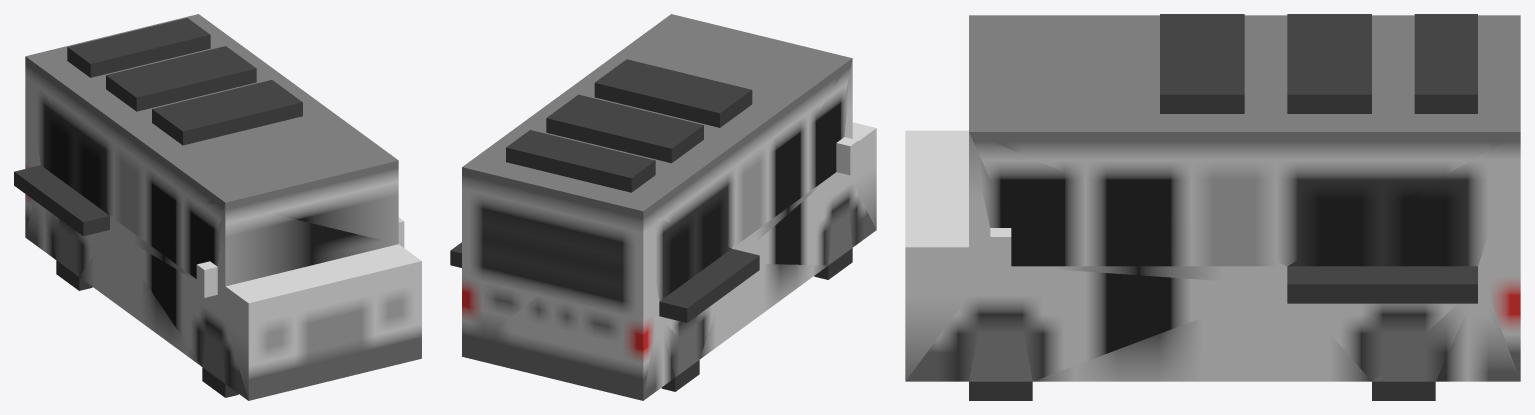
The model's file is veh_lunch2.dae.
The picture shows the model from 3 angles, left to right: view 1: azimuth 30°, elevation 25°; view 2: azimuth 150°, elevation 25°; view 3: azimuth 270°, elevation 25°; orthographic projection. The views are drawn at different scales.
Parts seen in each view (by area): view 1: veh_lunch2; view 2: veh_lunch2; view 3: veh_lunch2.
Part boxes in pixels (x1=…): veh_lunch2: x1=14, y1=14, x2=421, y2=400; veh_lunch2: x1=450, y1=14, x2=876, y2=400; veh_lunch2: x1=905, y1=14, x2=1520, y2=400.
Bounding box in the file's own units: 1.7 × 2.9 × 1.5.
1 material, 1 textured.
